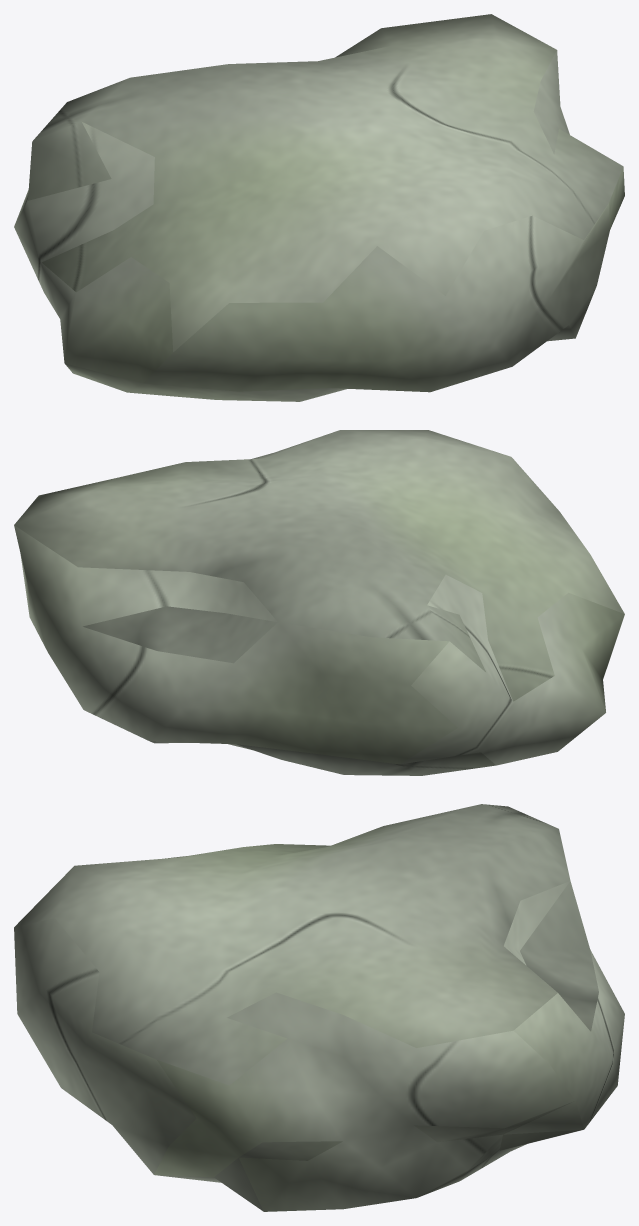
Rendered from rock_s.glb.
The picture shows the model from 3 angles, top to bottom: view 1: azimuth 30°, elevation 25°; view 2: azimuth 150°, elevation 25°; view 3: azimuth 270°, elevation 25°; orthographic projection. The views are drawn at different scales.
Visible parts, largest first — view 1: rock_s; view 2: rock_s; view 3: rock_s.
Boxes of the visible parts, <box> form: rock_s: <box>14,14,624,401</box>; rock_s: <box>14,430,624,775</box>; rock_s: <box>14,804,624,1211</box>.
Size of the model in its own units: 0.5722 by 0.2114 by 0.5227.
1 material, 1 textured.
